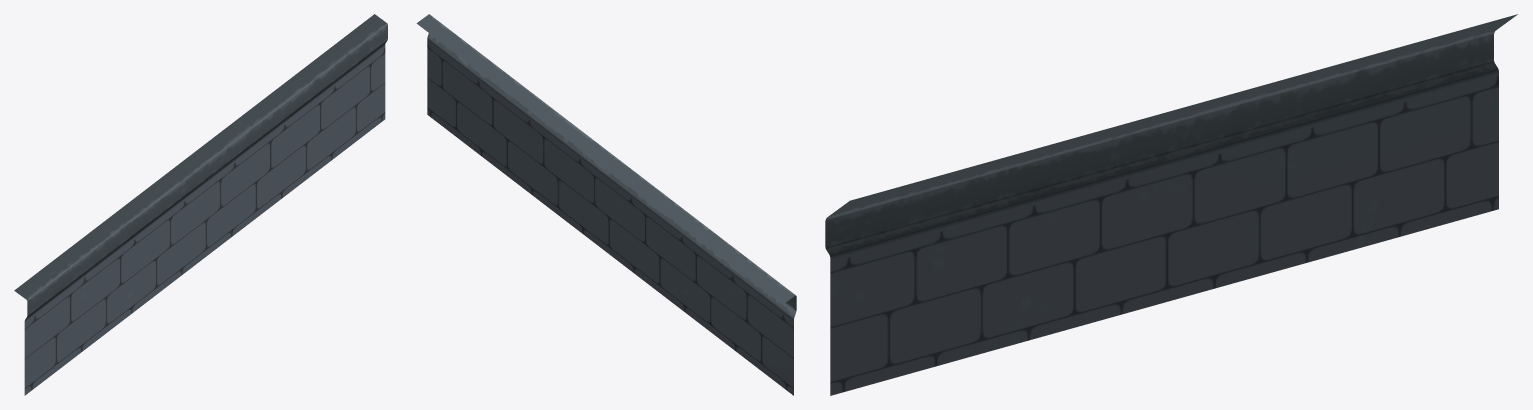
File: Skirt_Stairs.fbx
3 views of the same model, side by side, from view 1: azimuth 30°, elevation 25°; view 2: azimuth 150°, elevation 25°; view 3: azimuth 330°, elevation 25° (orthographic). The views are drawn at different scales.
Visible parts, largest first — view 1: Skirt_Stairs; view 2: Skirt_Stairs; view 3: Skirt_Stairs.
Boxes of the visible parts, x1,y1,x2,y2 form: Skirt_Stairs: (14,14,387,395); Skirt_Stairs: (416,14,796,395); Skirt_Stairs: (825,14,1517,395).
Size of the model in its own units: 500 by 379 by 31.86.
1 material, 1 textured.
